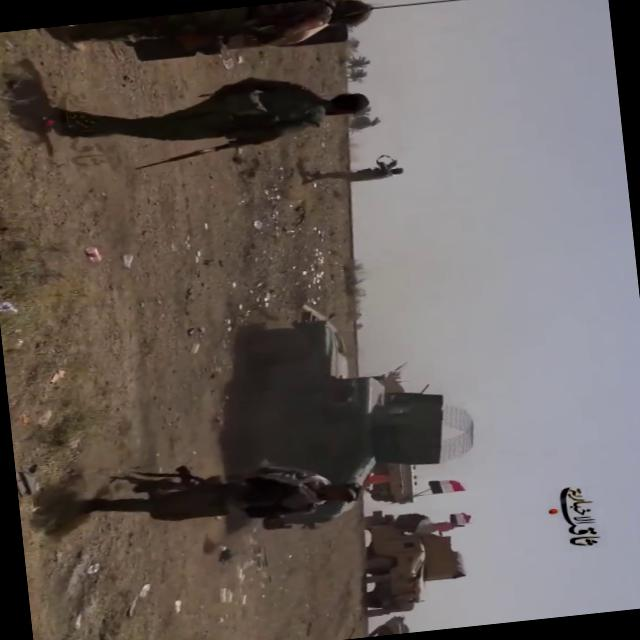long weapon: (122, 119, 278, 185), (102, 449, 238, 514)
